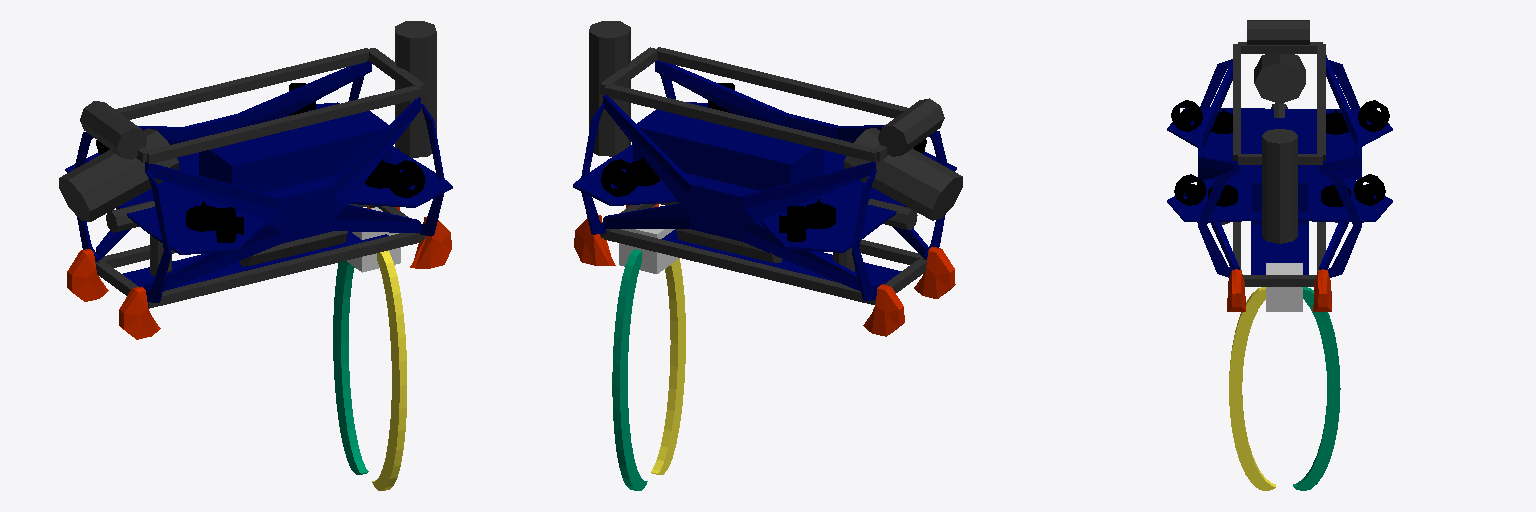
--- Facts derived from the render (not from the file) ---
The picture shows the robot from 3 angles, left to right: view 1: azimuth 30°, elevation 25°; view 2: azimuth 150°, elevation 25°; view 3: azimuth 270°, elevation 25°; orthographic projection.
Model sub9 with 28 links and 27 joints (11 revolute, 16 fixed), rooted at localization_center, posed all joints at 0.
Visible links, largest first — view 1: base_link, gripper_rightArm_link, gripper_leftArm_link, gripper_link; view 2: base_link, gripper_leftArm_link, gripper_rightArm_link, gripper_link; view 3: base_link, gripper_rightArm_link, gripper_leftArm_link, gripper_link.
Boxes of the visible links, x1=… form: base_link: x1=59, y1=21, x2=452, y2=339; gripper_rightArm_link: x1=372, y1=251, x2=406, y2=490; gripper_leftArm_link: x1=333, y1=261, x2=368, y2=474; gripper_link: x1=347, y1=207, x2=400, y2=272; base_link: x1=573, y1=21, x2=962, y2=336; gripper_leftArm_link: x1=612, y1=249, x2=647, y2=490; gripper_rightArm_link: x1=651, y1=258, x2=685, y2=474; gripper_link: x1=619, y1=229, x2=678, y2=273; base_link: x1=1167, y1=20, x2=1392, y2=311; gripper_rightArm_link: x1=1229, y1=287, x2=1275, y2=490; gripper_leftArm_link: x1=1293, y1=287, x2=1340, y2=490; gripper_link: x1=1266, y1=263, x2=1302, y2=311.
Bounding box of the posed robot: 0.9503 × 0.6072 × 1.1 m (x, y, z).
Meshes: 3 distinct files referenced, 4 mesh visuals loaded (3 Collada DAE).

robot.urdf — sub9:
<?xml version="1.0" ?>
<!-- =================================================================================== -->
<!-- |    This document was autogenerated by xacro from [local-path]/mil2/install/subjugator_description/share/subjugator_description/urdf/sub9_sim.urdf.xacro | -->
<!-- |    EDITING THIS FILE BY HAND IS NOT RECOMMENDED                                 | -->
<!-- =================================================================================== -->
<robot name="sub9" xmlns:experimental="http://sdformat.org/schemas/experimental" xmlns:gz="http://gazebosim.org/schema">
  <!-- Base Link of the Sub -->
  <link name="base_link">
    <!-- Sub's Pose -->
    <origin rpy="0 0 0" xyz="0 0 0"/>
    <!-- Inertial Properties -->
    <inertial>
      <origin rpy="0 0 0" xyz="0.352 0 0"/>
      <!-- Need to be properly calculated at some point -->
      <mass value="20.5"/>
      <inertia ixx="2.4" ixy="0" ixz="0" iyy="2.4" iyz="0.0" izz="3.0"/>
    </inertial>
    <!-- Visual Data-->
    <visual name="visual">
      <origin rpy="0 0 0" xyz="0 0 0"/>
      <geometry>
        <mesh filename="package://subjugator_description/urdf/meshes/Sub9.dae"/>
      </geometry>
    </visual>
    <!-- Collision Data -->
    <collision name="buoyancy_collision">
      <!-- This collision is for calculating the buoyant forces-->
      <origin rpy="0 0 0" xyz="0.354 0 0"/>
      <geometry>
        <sphere radius="0.1695"/>
      </geometry>
    </collision>
    <!-- The following are shell collisions. They dont contrubute to buoyancy-->
    <!-- and are for collisions -->
    <collision name="Front_Shell">
      <origin rpy="0 0 0" xyz="0.708 0 0"/>
      <geometry>
        <box size="0.001 0.345 0.345"/>
      </geometry>
    </collision>
    <collision name="Back_Shell">
      <origin rpy="0 0 0" xyz="0 0 0"/>
      <geometry>
        <box size="0.001 0.345 0.345"/>
      </geometry>
    </collision>
    <collision name="Left_Shell">
      <origin rpy="0 0 0" xyz="0.345 0.177 0"/>
      <geometry>
        <box size="0.708 0.001 0.345"/>
      </geometry>
    </collision>
    <collision name="Right_Shell">
      <origin rpy="0 0 0" xyz="0.345 -0.177 0"/>
      <geometry>
        <box size="0.708 0.001 0.345"/>
      </geometry>
    </collision>
    <collision name="Top_Shell">
      <origin rpy="0 0 0" xyz="0.345 0 0.177"/>
      <geometry>
        <box size="0.708 0.345 0.001"/>
      </geometry>
    </collision>
    <collision name="Front_Shell">
      <origin rpy="0 0 0" xyz="0.345 0 -0.177"/>
      <geometry>
        <box size="0.708 0.345 0.001"/>
      </geometry>
    </collision>
  </link>
  <gazebo>
    <plugin filename="gz-sim-hydrodynamics-system" name="gz::sim::systems::Hydrodynamics">
      <link_name>localization_center</link_name>
      <xU>-30</xU>
      <xUabsU>-15</xUabsU>
      <yV>-40</yV>
      <yVabsV>-25</yVabsV>
      <zW>-50</zW>
      <zWabsW>-25</zWabsW>
      <kP>-30</kP>
      <kPabsP>-8</kPabsP>
      <mQ>-35</mQ>
      <mQabsQ>-10</mQabsQ>
      <nR>-40</nR>
      <nRabsR>-20</nRabsR>
    </plugin>
    <plugin filename="ThrusterBridge" name="thrusterBridge::ThrusterBridge"/>
    <plugin filename="MarbleDropper" name="marble_dropper::MarbleDropper"/>
    <plugin filename="GripperControl" name="gripper_control::GripperControl">
      <left_joint_name>gripper_leftArm_joint</left_joint_name>
      <right_joint_name>gripper_rightArm_joint</right_joint_name>
    </plugin>
  </gazebo>
  <link name="localization_center">
    <inertial>
      <mass value="0.001"/>
      <origin rpy="0 0 0" xyz="0 0 0"/>
      <inertia ixx="1e-6" ixy="0" ixz="0" iyy="1e-6" iyz="0" izz="1e-6"/>
    </inertial>
  </link>
  <joint name="base_to_localization" type="fixed">
    <parent link="localization_center"/>
    <child link="base_link"/>
    <origin rpy="0 0 0" xyz="0 0 0"/>
  </joint>
  <!-- Camera Link -->
  <link name="front_cam_link">
    <origin rpy="0 0 0" xyz="0 0 0"/>
    <inertial>
      <origin rpy="0 0 0" xyz="0 0 0"/>
      <mass value="0.1"/>
      <inertia ixx="0.001" ixy="0" ixz="0" iyy="0.001" iyz="0" izz="0.001"/>
    </inertial>
  </link>
  <!-- Camera Joint -->
  <joint name="front_cam_joint" type="fixed">
    <origin rpy="0 0 0" xyz="0.78 -0.014274 -0.050"/>
    <parent link="base_link"/>
    <child link="front_cam_link"/>
  </joint>
  <!-- This ensures that the fixed link is not simplified away -->
  <gazebo reference="front_cam_joint">
    <disableFixedJointLumping>true</disableFixedJointLumping>
    <preserveFixedJoint>true</preserveFixedJoint>
  </gazebo>
  <gazebo reference="front_cam_link">
    <sensor name="front_cam_camera" type="rgbd_camera">
      <update_rate>30</update_rate>
      <visualize>true</visualize>
      <always_on>1</always_on>
      <topic>front_cam</topic>
      <camera>
        <horizontal_fov>1.919862177</horizontal_fov>
        <image>
          <width>960</width>
          <height>600</height>
        </image>
        <clip>
          <near>0.1</near>
          <far>50.0</far>
        </clip>
      </camera>
    </sensor>
  </gazebo>
  <!-- Camera Link -->
  <link name="down_cam_link">
    <origin rpy="0 0 0" xyz="0 0 0"/>
    <inertial>
      <origin rpy="0 0 0" xyz="0 0 0"/>
      <mass value="0.1"/>
      <inertia ixx="0.001" ixy="0" ixz="0" iyy="0.001" iyz="0" izz="0.001"/>
    </inertial>
  </link>
  <!-- Camera Joint -->
  <joint name="down_cam_joint" type="fixed">
    <origin rpy="0 1.57 0" xyz="0.45222 0.027913 -0.22"/>
    <parent link="base_link"/>
    <child link="down_cam_link"/>
  </joint>
  <!-- This ensures that the fixed link is not simplified away -->
  <gazebo reference="down_cam_joint">
    <disableFixedJointLumping>true</disableFixedJointLumping>
    <preserveFixedJoint>true</preserveFixedJoint>
  </gazebo>
  <gazebo reference="down_cam_link">
    <sensor name="down_cam_camera" type="rgbd_camera">
      <update_rate>30</update_rate>
      <visualize>true</visualize>
      <always_on>1</always_on>
      <topic>down_cam</topic>
      <camera>
        <horizontal_fov>1.919862177</horizontal_fov>
        <image>
          <width>960</width>
          <height>600</height>
        </image>
        <clip>
          <near>0.1</near>
          <far>50.0</far>
        </clip>
      </camera>
    </sensor>
  </gazebo>
  <!-- DVL Link -->
  <link name="dvl_sensor_link">
    <origin rpy="0 0 0" xyz="0 0 0"/>
    <inertial>
      <origin rpy="0 0 0" xyz="0 0 0"/>
      <mass value="0.1"/>
      <inertia ixx="0.001" ixy="0" ixz="0" iyy="0.001" iyz="0" izz="0.001"/>
    </inertial>
  </link>
  <!-- DVL Joint -->
  <joint name="dvl_sensor_joint" type="fixed">
    <origin rpy="0.0 0.0 0.0" xyz="0.3937 0 -0.2413"/>
    <parent link="base_link"/>
    <child link="dvl_sensor_link"/>
  </joint>
  <!-- This ensures that the fixed link is not simplified away -->
  <gazebo reference="dvl_sensor_joint">
    <disableFixedJointLumping>true</disableFixedJointLumping>
    <preserveFixedJoint>true</preserveFixedJoint>
  </gazebo>
  <!-- Sensor/Plugin Info-->
  <gazebo reference="dvl_sensor_link">
    <sensor gz:type="dvl" name="A50_Waterlinked" type="custom">
      <pose>0 0 0 0 0 0</pose>
      <always_on>1</always_on>
      <update_rate>8</update_rate>
      <topic>/dvl/odom</topic>
      <gz:dvl>
        <type>phased_array</type>
        <arrangement degrees="true">
          <beam id="1">
            <aperture>3</aperture>
            <rotation>-135</rotation>
            <tilt>25</tilt>
          </beam>
          <beam>
            <aperture>3</aperture>
            <rotation>135</rotation>
            <tilt>25</tilt>
          </beam>
          <beam>
            <aperture>3</aperture>
            <rotation>45</rotation>
            <tilt>25</tilt>
          </beam>
          <beam>
            <aperture>3</aperture>
            <rotation>-45</rotation>
            <tilt>25</tilt>
          </beam>
        </arrangement>
        <tracking>
          <water_mass_mode>
            <when>best</when>
            <water_velocity>
              <x>0.</x>
              <y>0.</y>
              <z>0.</z>
            </water_velocity>
            <boundaries>
              <near>10.</near>
              <far>100.</far>
            </boundaries>
            <bins>10</bins>
            <noise type="gaussian">
              <stddev>0.0</stddev>
            </noise>
            <visualize>true</visualize>
          </water_mass_mode>
          <bottom_mode>
            <when>best</when>
            <noise type="gaussian">
              <stddev>0.0</stddev>
            </noise>
            <visualize>true</visualize>
          </bottom_mode>
        </tracking>
        <maximum_range>200.</maximum_range>
        <minimum_range>0.3</minimum_range>
        <!-- ENU to FSD -->
        <reference_frame>0 0 0 0 0 0</reference_frame>
      </gz:dvl>
    </sensor>
  </gazebo>
  <gazebo>
    <plugin filename="DVLBridge" name="dave_ros_gz_plugins::DVLBridge">
      <!-- Grabbed in DVL Bridge script -->
      <topic>/dvl/odom</topic>
    </plugin>
  </gazebo>
  <!-- Imu link -->
  <link name="imu_link">
    <origin rpy="0 0 0" xyz="0 0 0"/>
    <inertial>
      <origin rpy="0 0 0" xyz="0 0 0"/>
      <mass value="0.1"/>
      <inertia ixx="0.001" ixy="0" ixz="0" iyy="0.001" iyz="0" izz="0.001"/>
    </inertial>
  </link>
  <!-- IMU joint -->
  <joint name="imu_joint" type="fixed">
    <origin rpy="0 0 0" xyz="0.65164 -0.00588 0.052145"/>
    <parent link="base_link"/>
    <child link="imu_link"/>
  </joint>
  <!-- This ensures that the fixed link is not simplified away -->
  <gazebo reference="imu_joint">
    <disableFixedJointLumping>true</disableFixedJointLumping>
    <preserveFixedJoint>true</preserveFixedJoint>
  </gazebo>
  <!-- Sensor/Plugin Info-->
  <gazebo reference="imu_link">
    <sensor name="imu_link" type="imu">
      <always_on>true</always_on>
      <update_rate>210</update_rate>
      <topic>/imu/data_raw</topic>
      <gz_frame_id>imu_link</gz_frame_id>
      <imu>
        <linear_acceleration>
          <x>
            <noise type="gaussian">
              <stddev>0.0</stddev>
            </noise>
          </x>
          <y>
            <noise type="gaussian">
              <stddev>0.0</stddev>
            </noise>
          </y>
          <z>
            <noise type="gaussian">
              <stddev>0.0</stddev>
            </noise>
          </z>
        </linear_acceleration>
        <angular_velocity>
          <x>
            <noise type="gaussian">
              <stddev>0.0</stddev>
            </noise>
          </x>
          <y>
            <noise type="gaussian">
              <stddev>0.0</stddev>
            </noise>
          </y>
          <z>
            <noise type="gaussian">
              <stddev>0.0</stddev>
            </noise>
          </z>
        </angular_velocity>
      </imu>
      <plugin filename="gz-sim-imu-system" name="gz::sim::systems::Imu"/>
    </sensor>
    <sensor name="VectorNav_MAG" type="magnetometer">
      <always_on>true</always_on>
      <update_rate>210</update_rate>
      <topic>/imu/mag</topic>
      <plugin filename="gz-sim-magnetometer-system" name="gz::sim::systems::Magnetometer"/>
    </sensor>
  </gazebo>
  <link name="depth_sensor_link">
    <origin rpy="0 0 0" xyz="0 0 0"/>
    <inertial>
      <origin rpy="0 0 0" xyz="0 0 0"/>
      <mass value="0.1"/>
      <inertia ixx="0.001" ixy="0" ixz="0" iyy="0.001" iyz="0" izz="0.001"/>
    </inertial>
  </link>
  <!-- DepthSensor Joint -->
  <joint name="depth_sensor_joint" type="fixed">
    <parent link="base_link"/>
    <child link="depth_sensor_link"/>
    <origin rpy="0 0 0" xyz="0.3 0 0"/>
  </joint>
  <!-- This ensures that the fixed link is not simplified away -->
  <gazebo reference="depth_sensor_joint">
    <disableFixedJointLumping>true</disableFixedJointLumping>
    <preserveFixedJoint>true</preserveFixedJoint>
  </gazebo>
  <gazebo>
    <plugin filename="DepthSensor" name="depth_sensor::DepthSensor">
      <!-- SDF parameters -->
      <frame_id>depth_sensor_link</frame_id>
      <offset>0 0 0 0 0 0</offset>
      <topic>/depth</topic>
      <update_rate>5</update_rate>
      <noise_mean>0.0</noise_mean>
      <noise_stddev>0</noise_stddev>
    </plugin>
  </gazebo>
  <!-- Hydrophone Link -->
  <link name="hydrophone_sensor_link">
    <origin rpy="0 0 0" xyz="0 0 0"/>
    <inertial>
      <origin rpy="0 0 0" xyz="0 0 0"/>
      <mass value="0.1"/>
      <inertia ixx="0.001" ixy="0" ixz="0" iyy="0.001" iyz="0" izz="0.001"/>
    </inertial>
  </link>
  <!-- Hydrophone Joint -->
  <joint name="hydrophone_sensor_joint" type="fixed">
    <origin rpy="0 1.57 .7853981634" xyz="0.10 -0.034274 -0.22"/>
    <parent link="base_link"/>
    <child link="hydrophone_sensor_link"/>
  </joint>
  <!-- This ensures that the fixed link is not simplified away -->
  <gazebo reference="hydrophone_sensor_joint">
    <disableFixedJointLumping>true</disableFixedJointLumping>
    <preserveFixedJoint>true</preserveFixedJoint>
  </gazebo>
  <!-- <gazebo>
      <plugin
        filename="Hydrophone"
        name="hydrophone::Hydrophone">
        <topic>${name}</topic>
      </plugin>
    </gazebo> -->
  <gazebo>
    <preserveFixedJoint>true</preserveFixedJoint>
  </gazebo>
  <!-- The plate link -->
  <link name="asym_drag">
    <inertial>
      <mass value="0.001"/>
      <inertia ixx="0.001" ixy="0" ixz="0" iyy="0.001" iyz="0" izz="0.001"/>
    </inertial>
  </link>
  <!-- Joint (revolute with zero limits avoids fixed-joint reduction reliably) -->
  <joint name="asym_drag_joint" type="revolute">
    <parent link="base_link"/>
    <child link="asym_drag"/>
    <origin xyz="0.8 0 0"/>
    <axis xyz="0 0 1"/>
    <limit effort="0" lower="0" upper="0" velocity="0"/>
  </joint>
  <!-- Hydrodynamics plugin attached to the plate -->
  <gazebo>
    <plugin filename="gz-sim-hydrodynamics-system" name="gz::sim::systems::Hydrodynamics">
      <link_name>asym_drag</link_name>
      <yV>0</yV>
      <yVabsV>0</yVabsV>
      <xU>0</xU>
      <xUabsU>0</xUabsU>
      <zW>0</zW>
      <zWabsW>0</zWabsW>
      <kP>0</kP>
      <kPabsP>0</kPabsP>
      <mQ>0</mQ>
      <mQabsQ>0</mQabsQ>
      <nR>0</nR>
      <nRabsR>0</nRabsR>
    </plugin>
  </gazebo>
  <!-- Gripper Base Link -->
  <link name="gripper_link">
    <origin rpy="0 0 0" xyz="0 0 0"/>
    <inertial>
      <origin rpy="0 0 0" xyz="0 0 0"/>
      <mass value="1.0"/>
      <inertia ixx="0.01" ixy="0" ixz="0" iyy="0.01" iyz="0" izz="0.01"/>
    </inertial>
    <!-- Visual for base -->
    <visual name="gripper_base_visual">
      <geometry>
        <mesh filename="package://subjugator_description/models/gripper_2025/gripper_base.dae"/>
      </geometry>
    </visual>
    <!-- Collision for base -->
    <collision>
      <geometry>
        <box size="0.1 0.1 0.1"/>
      </geometry>
    </collision>
  </link>
  <!-- Left Arm Link  -->
  <link name="gripper_leftArm_link">
    <inertial>
      <origin rpy="0 0 0" xyz="0 0.025 0"/>
      <mass value="0.1"/>
      <inertia ixx="0.001" ixy="0" ixz="0" iyy="0.001" iyz="0" izz="0.001"/>
    </inertial>
    <!-- Left Arm Visual Link -->
    <visual name="gripper_leftArm_visual">
      <origin rpy="1.57 0 -1.57" xyz="0 0.025 -0.3"/>
      <geometry>
        <mesh filename="package://subjugator_description/models/gripper_2025/gripper_arm.dae"/>
      </geometry>
    </visual>
    <!-- Left arm collision removed to avoid crossing/overlap issues during motion -->
  </link>
  <!-- Left Arm Joint -->
  <joint name="gripper_leftArm_joint" type="revolute">
    <origin rpy="0 0 0" xyz="0 0.025 0"/>
    <parent link="gripper_link"/>
    <child link="gripper_leftArm_link"/>
    <axis xyz="1 0 0"/>
    <limit effort="1.0" lower="0.0" upper="0.5" velocity="1.0"/>
  </joint>
  <!-- Right Arm Link -->
  <link name="gripper_rightArm_link">
    <inertial>
      <origin rpy="0 0 0" xyz="0 -0.025 0"/>
      <mass value="0.1"/>
      <inertia ixx="0.001" ixy="0" ixz="0" iyy="0.001" iyz="0" izz="0.001"/>
    </inertial>
    <!-- Right Arm Visual Link -->
    <visual name="gripper_rightArm_visual">
      <origin rpy="1.57 0 1.57" xyz="0 -0.025 -0.3"/>
      <geometry>
        <mesh filename="package://subjugator_description/models/gripper_2025/gripper_arm.dae"/>
      </geometry>
    </visual>
    <!-- Right arm collision removed to avoid crossing/overlap issues during motion -->
  </link>
  <!-- Right Arm Joint -->
  <joint name="gripper_rightArm_joint" type="revolute">
    <origin rpy="0 0 0" xyz="0 -0.025 0"/>
    <parent link="gripper_link"/>
    <child link="gripper_rightArm_link"/>
    <axis xyz="-1 0 0"/>
    <limit effort="1.0" lower="0.0" upper="0.5" velocity="1.0"/>
  </joint>
  <!-- Fixed Joint to Parent -->
  <joint name="gripper_joint" type="fixed">
    <origin rpy="0 0 0" xyz="0.375 0 -0.225"/>
    <parent link="base_link"/>
    <child link="gripper_link"/>
  </joint>
  <gazebo reference="gripper_joint">
    <disableFixedJointLumping>true</disableFixedJointLumping>
    <preserveFixedJoint>true</preserveFixedJoint>
  </gazebo>
  <!-- Link for base of thruster (this is for TF) -->
  <link name="FLV_link">
    <origin rpy="0 0 0" xyz="0 0 0"/>
    <inertial>
      <origin rpy="0 0 0" xyz="0 0 0"/>
      <mass value="0.01"/>
      <inertia ixx="0.001" ixy="0" ixz="0" iyy="0.001" iyz="0" izz="0.001"/>
    </inertial>
  </link>
  <!-- Thruster base Joint -->
  <joint name="FLV_joint" type="fixed">
    <origin rpy="0 -1.5708 0" xyz="0.5715 0.14922 -0.028575"/>
    <parent link="base_link"/>
    <child link="FLV_link"/>
  </joint>
  <!-- This ensures that the fixed link is not simplified away -->
  <gazebo reference="FLV_joint">
    <disableFixedJointLumping>true</disableFixedJointLumping>
    <preserveFixedJoint>true</preserveFixedJoint>
  </gazebo>
  <!-- Thruster Direction link (this is for the plugin) -->
  <!-- The plugin does not work with a fixed link -->
  <link name="FLV_dir_link">
    <origin rpy="0 0 0" xyz="0 0 0"/>
    <inertial>
      <origin rpy="0 0 0" xyz="0 0 0"/>
      <mass value="0.01"/>
      <inertia ixx="0.001" ixy="0" ixz="0" iyy="0.001" iyz="0" izz="0.001"/>
    </inertial>
  </link>
  <!-- Thruster Direction joint -->
  <joint name="FLV_dir_joint" type="revolute">
    <origin rpy="0 0 0" xyz="0 0 0"/>
    <parent link="FLV_link"/>
    <child link="FLV_dir_link"/>
    <limit effort="1000" lower="0.0" upper="0.548" velocity="0.5"/>
  </joint>
  <!-- Sensor/Plugin Info-->
  <!-- For the thruster plugin this gazebo tag needs to be global-->
  <!-- Don't give it a reference like the other plugins-->
  <gazebo>
    <plugin filename="gz-sim-thruster-system" name="gz::sim::systems::Thruster">
      <namespace>FLV</namespace>
      <use_angvel_cmd>0</use_angvel_cmd>
      <joint_name>FLV_dir_joint</joint_name>
      <thrust_coefficient>0.01407</thrust_coefficient>
      <fluid_density>1000</fluid_density>
      <propeller_diameter>0.2</propeller_diameter>
    </plugin>
  </gazebo>
  <!-- Link for base of thruster (this is for TF) -->
  <link name="FRV_link">
    <origin rpy="0 0 0" xyz="0 0 0"/>
    <inertial>
      <origin rpy="0 0 0" xyz="0 0 0"/>
      <mass value="0.01"/>
      <inertia ixx="0.001" ixy="0" ixz="0" iyy="0.001" iyz="0" izz="0.001"/>
    </inertial>
  </link>
  <!-- Thruster base Joint -->
  <joint name="FRV_joint" type="fixed">
    <origin rpy="0 -1.5708 0" xyz="0.5715 -0.14922 -0.028575"/>
    <parent link="base_link"/>
    <child link="FRV_link"/>
  </joint>
  <!-- This ensures that the fixed link is not simplified away -->
  <gazebo reference="FRV_joint">
    <disableFixedJointLumping>true</disableFixedJointLumping>
    <preserveFixedJoint>true</preserveFixedJoint>
  </gazebo>
  <!-- Thruster Direction link (this is for the plugin) -->
  <!-- The plugin does not work with a fixed link -->
  <link name="FRV_dir_link">
    <origin rpy="0 0 0" xyz="0 0 0"/>
    <inertial>
      <origin rpy="0 0 0" xyz="0 0 0"/>
      <mass value="0.01"/>
      <inertia ixx="0.001" ixy="0" ixz="0" iyy="0.001" iyz="0" izz="0.001"/>
    </inertial>
  </link>
  <!-- Thruster Direction joint -->
  <joint name="FRV_dir_joint" type="revolute">
    <origin rpy="0 0 0" xyz="0 0 0"/>
    <parent link="FRV_link"/>
    <child link="FRV_dir_link"/>
    <limit effort="1000" lower="0.0" upper="0.548" velocity="0.5"/>
  </joint>
  <!-- Sensor/Plugin Info-->
  <!-- For the thruster plugin this gazebo tag needs to be global-->
  <!-- Don't give it a reference like the other plugins-->
  <gazebo>
    <plugin filename="gz-sim-thruster-system" name="gz::sim::systems::Thruster">
      <namespace>FRV</namespace>
      <use_angvel_cmd>0</use_angvel_cmd>
      <joint_name>FRV_dir_joint</joint_name>
      <thrust_coefficient>0.01407</thrust_coefficient>
      <fluid_density>1000</fluid_density>
      <propeller_diameter>0.2</propeller_diameter>
    </plugin>
  </gazebo>
  <!-- Link for base of thruster (this is for TF) -->
  <link name="BRV_link">
    <origin rpy="0 0 0" xyz="0 0 0"/>
    <inertial>
      <origin rpy="0 0 0" xyz="0 0 0"/>
      <mass value="0.01"/>
      <inertia ixx="0.001" ixy="0" ixz="0" iyy="0.001" iyz="0" izz="0.001"/>
    </inertial>
  </link>
  <!-- Thruster base Joint -->
  <joint name="BRV_joint" type="fixed">
    <origin rpy="0 -1.5708 0" xyz="0.1143 -0.14922 -0.028575"/>
    <parent link="base_link"/>
    <child link="BRV_link"/>
  </joint>
  <!-- This ensures that the fixed link is not simplified away -->
  <gazebo reference="BRV_joint">
    <disableFixedJointLumping>true</disableFixedJointLumping>
    <preserveFixedJoint>true</preserveFixedJoint>
  </gazebo>
  <!-- Thruster Direction link (this is for the plugin) -->
  <!-- The plugin does not work with a fixed link -->
  <link name="BRV_dir_link">
    <origin rpy="0 0 0" xyz="0 0 0"/>
    <inertial>
      <origin rpy="0 0 0" xyz="0 0 0"/>
      <mass value="0.01"/>
      <inertia ixx="0.001" ixy="0" ixz="0" iyy="0.001" iyz="0" izz="0.001"/>
    </inertial>
  </link>
  <!-- Thruster Direction joint -->
  <joint name="BRV_dir_joint" type="revolute">
    <origin rpy="0 0 0" xyz="0 0 0"/>
    <parent link="BRV_link"/>
    <child link="BRV_dir_link"/>
    <limit effort="1000" lower="0.0" upper="0.548" velocity="0.5"/>
  </joint>
  <!-- Sensor/Plugin Info-->
  <!-- For the thruster plugin this gazebo tag needs to be global-->
  <!-- Don't give it a reference like the other plugins-->
  <gazebo>
    <plugin filename="gz-sim-thruster-system" name="gz::sim::systems::Thruster">
      <namespace>BRV</namespace>
      <use_angvel_cmd>0</use_angvel_cmd>
      <joint_name>BRV_dir_joint</joint_name>
      <thrust_coefficient>0.01407</thrust_coefficient>
      <fluid_density>1000</fluid_density>
      <propeller_diameter>0.2</propeller_diameter>
    </plugin>
  </gazebo>
  <!-- Link for base of thruster (this is for TF) -->
  <link name="BLV_link">
    <origin rpy="0 0 0" xyz="0 0 0"/>
    <inertial>
      <origin rpy="0 0 0" xyz="0 0 0"/>
      <mass value="0.01"/>
      <inertia ixx="0.001" ixy="0" ixz="0" iyy="0.001" iyz="0" izz="0.001"/>
    </inertial>
  </link>
  <!-- Thruster base Joint -->
  <joint name="BLV_joint" type="fixed">
    <origin rpy="0 -1.5708 0" xyz="0.1143 0.14922 -0.028575"/>
    <parent link="base_link"/>
    <child link="BLV_link"/>
  </joint>
  <!-- This ensures that the fixed link is not simplified away -->
  <gazebo reference="BLV_joint">
    <disableFixedJointLumping>true</disableFixedJointLumping>
    <preserveFixedJoint>true</preserveFixedJoint>
  </gazebo>
  <!-- Thruster Direction link (this is for the plugin) -->
  <!-- The plugin does not work with a fixed link -->
  <link name="BLV_dir_link">
    <origin rpy="0 0 0" xyz="0 0 0"/>
    <inertial>
      <origin rpy="0 0 0" xyz="0 0 0"/>
      <mass value="0.01"/>
      <inertia ixx="0.001" ixy="0" ixz="0" iyy="0.001" iyz="0" izz="0.001"/>
    </inertial>
  </link>
  <!-- Thruster Direction joint -->
  <joint name="BLV_dir_joint" type="revolute">
    <origin rpy="0 0 0" xyz="0 0 0"/>
    <parent link="BLV_link"/>
    <child link="BLV_dir_link"/>
    <limit effort="1000" lower="0.0" upper="0.548" velocity="0.5"/>
  </joint>
  <!-- Sensor/Plugin Info-->
  <!-- For the thruster plugin this gazebo tag needs to be global-->
  <!-- Don't give it a reference like the other plugins-->
  <gazebo>
    <plugin filename="gz-sim-thruster-system" name="gz::sim::systems::Thruster">
      <namespace>BLV</namespace>
      <use_angvel_cmd>0</use_angvel_cmd>
      <joint_name>BLV_dir_joint</joint_name>
      <thrust_coefficient>0.01407</thrust_coefficient>
      <fluid_density>1000</fluid_density>
      <propeller_diameter>0.2</propeller_diameter>
    </plugin>
  </gazebo>
  <!-- Link for base of thruster (this is for TF) -->
  <link name="FLH_link">
    <origin rpy="0 0 0" xyz="0 0 0"/>
    <inertial>
      <origin rpy="0 0 0" xyz="0 0 0"/>
      <mass value="0.01"/>
      <inertia ixx="0.001" ixy="0" ixz="0" iyy="0.001" iyz="0" izz="0.001"/>
    </inertial>
  </link>
  <!-- Thruster base Joint -->
  <joint name="FLH_joint" type="fixed">
    <origin rpy="0 0 -0.523598776" xyz="0.58737 0.24765 0.053975"/>
    <parent link="base_link"/>
    <child link="FLH_link"/>
  </joint>
  <!-- This ensures that the fixed link is not simplified away -->
  <gazebo reference="FLH_joint">
    <disableFixedJointLumping>true</disableFixedJointLumping>
    <preserveFixedJoint>true</preserveFixedJoint>
  </gazebo>
  <!-- Thruster Direction link (this is for the plugin) -->
  <!-- The plugin does not work with a fixed link -->
  <link name="FLH_dir_link">
    <origin rpy="0 0 0" xyz="0 0 0"/>
    <inertial>
      <origin rpy="0 0 0" xyz="0 0 0"/>
      <mass value="0.01"/>
      <inertia ixx="0.001" ixy="0" ixz="0" iyy="0.001" iyz="0" izz="0.001"/>
    </inertial>
  </link>
  <!-- Thruster Direction joint -->
  <joint name="FLH_dir_joint" type="revolute">
    <origin rpy="0 0 0" xyz="0 0 0"/>
    <parent link="FLH_link"/>
    <child link="FLH_dir_link"/>
    <limit effort="1000" lower="0.0" upper="0.548" velocity="0.5"/>
  </joint>
  <!-- Sensor/Plugin Info-->
  <!-- For the thruster plugin this gazebo tag needs to be global-->
  <!-- Don't give it a reference like the other plugins-->
  <gazebo>
    <plugin filename="gz-sim-thruster-system" name="gz::sim::systems::Thruster">
      <namespace>FLH</namespace>
      <use_angvel_cmd>0</use_angvel_cmd>
      <joint_name>FLH_dir_joint</joint_name>
      <thrust_coefficient>0.01407</thrust_coefficient>
      <fluid_density>1000</fluid_density>
      <propeller_diameter>0.2</propeller_diameter>
    </plugin>
  </gazebo>
  <!-- Link for base of thruster (this is for TF) -->
  <link name="FRH_link">
    <origin rpy="0 0 0" xyz="0 0 0"/>
    <inertial>
      <origin rpy="0 0 0" xyz="0 0 0"/>
      <mass value="0.01"/>
      <inertia ixx="0.001" ixy="0" ixz="0" iyy="0.001" iyz="0" izz="0.001"/>
    </inertial>
  </link>
  <!-- Thruster base Joint -->
  <joint name="FRH_joint" type="fixed">
    <origin rpy="0 0 0.523598776" xyz="0.58737 -0.24765 0.053975"/>
    <parent link="base_link"/>
    <child link="FRH_link"/>
  </joint>
  <!-- This ensures that the fixed link is not simplified away -->
  <gazebo reference="FRH_joint">
    <disableFixedJointLumping>true</disableFixedJointLumping>
    <preserveFixedJoint>true</preserveFixedJoint>
  </gazebo>
  <!-- Thruster Direction link (this is for the plugin) -->
  <!-- The plugin does not work with a fixed link -->
  <link name="FRH_dir_link">
    <origin rpy="0 0 0" xyz="0 0 0"/>
    <inertial>
      <origin rpy="0 0 0" xyz="0 0 0"/>
      <mass value="0.01"/>
      <inertia ixx="0.001" ixy="0" ixz="0" iyy="0.001" iyz="0" izz="0.001"/>
    </inertial>
  </link>
  <!-- Thruster Direction joint -->
  <joint name="FRH_dir_joint" type="revolute">
    <origin rpy="0 0 0" xyz="0 0 0"/>
    <parent link="FRH_link"/>
    <child link="FRH_dir_link"/>
    <limit effort="1000" lower="0.0" upper="0.548" velocity="0.5"/>
  </joint>
  <!-- Sensor/Plugin Info-->
  <!-- For the thruster plugin this gazebo tag needs to be global-->
  <!-- Don't give it a reference like the other plugins-->
  <gazebo>
    <plugin filename="gz-sim-thruster-system" name="gz::sim::systems::Thruster">
      <namespace>FRH</namespace>
      <use_angvel_cmd>0</use_angvel_cmd>
      <joint_name>FRH_dir_joint</joint_name>
      <thrust_coefficient>0.01407</thrust_coefficient>
      <fluid_density>1000</fluid_density>
      <propeller_diameter>0.2</propeller_diameter>
    </plugin>
  </gazebo>
  <!-- Link for base of thruster (this is for TF) -->
  <link name="BRH_link">
    <origin rpy="0 0 0" xyz="0 0 0"/>
    <inertial>
      <origin rpy="0 0 0" xyz="0 0 0"/>
      <mass value="0.01"/>
      <inertia ixx="0.001" ixy="0" ixz="0" iyy="0.001" iyz="0" izz="0.001"/>
    </inertial>
  </link>
  <!-- Thruster base Joint -->
  <joint name="BRH_joint" type="fixed">
    <origin rpy="0 0 -0.523598776" xyz="0.127 -0.24765 0.053975"/>
    <parent link="base_link"/>
    <child link="BRH_link"/>
  </joint>
  <!-- This ensures that the fixed link is not simplified away -->
  <gazebo reference="BRH_joint">
    <disableFixedJointLumping>true</disableFixedJointLumping>
    <preserveFixedJoint>true</preserveFixedJoint>
  </gazebo>
  <!-- Thruster Direction link (this is for the plugin) -->
  <!-- The plugin does not work with a fixed link -->
  <link name="BRH_dir_link">
    <origin rpy="0 0 0" xyz="0 0 0"/>
    <inertial>
      <origin rpy="0 0 0" xyz="0 0 0"/>
      <mass value="0.01"/>
      <inertia ixx="0.001" ixy="0" ixz="0" iyy="0.001" iyz="0" izz="0.001"/>
    </inertial>
  </link>
  <!-- Thruster Direction joint -->
  <joint name="BRH_dir_joint" type="revolute">
    <origin rpy="0 0 0" xyz="0 0 0"/>
    <parent link="BRH_link"/>
    <child link="BRH_dir_link"/>
    <limit effort="1000" lower="0.0" upper="0.548" velocity="0.5"/>
  </joint>
  <!-- Sensor/Plugin Info-->
  <!-- For the thruster plugin this gazebo tag needs to be global-->
  <!-- Don't give it a reference like the other plugins-->
  <gazebo>
    <plugin filename="gz-sim-thruster-system" name="gz::sim::systems::Thruster">
      <namespace>BRH</namespace>
      <use_angvel_cmd>0</use_angvel_cmd>
      <joint_name>BRH_dir_joint</joint_name>
      <thrust_coefficient>0.01407</thrust_coefficient>
      <fluid_density>1000</fluid_density>
      <propeller_diameter>0.2</propeller_diameter>
    </plugin>
  </gazebo>
  <!-- Link for base of thruster (this is for TF) -->
  <link name="BLH_link">
    <origin rpy="0 0 0" xyz="0 0 0"/>
    <inertial>
      <origin rpy="0 0 0" xyz="0 0 0"/>
      <mass value="0.01"/>
      <inertia ixx="0.001" ixy="0" ixz="0" iyy="0.001" iyz="0" izz="0.001"/>
    </inertial>
  </link>
  <!-- Thruster base Joint -->
  <joint name="BLH_joint" type="fixed">
    <origin rpy="0 0 0.523598776" xyz="0.127 0.24765 0.053975"/>
    <parent link="base_link"/>
    <child link="BLH_link"/>
  </joint>
  <!-- This ensures that the fixed link is not simplified away -->
  <gazebo reference="BLH_joint">
    <disableFixedJointLumping>true</disableFixedJointLumping>
    <preserveFixedJoint>true</preserveFixedJoint>
  </gazebo>
  <!-- Thruster Direction link (this is for the plugin) -->
  <!-- The plugin does not work with a fixed link -->
  <link name="BLH_dir_link">
    <origin rpy="0 0 0" xyz="0 0 0"/>
    <inertial>
      <origin rpy="0 0 0" xyz="0 0 0"/>
      <mass value="0.01"/>
      <inertia ixx="0.001" ixy="0" ixz="0" iyy="0.001" iyz="0" izz="0.001"/>
    </inertial>
  </link>
  <!-- Thruster Direction joint -->
  <joint name="BLH_dir_joint" type="revolute">
    <origin rpy="0 0 0" xyz="0 0 0"/>
    <parent link="BLH_link"/>
    <child link="BLH_dir_link"/>
    <limit effort="1000" lower="0.0" upper="0.548" velocity="0.5"/>
  </joint>
  <!-- Sensor/Plugin Info-->
  <!-- For the thruster plugin this gazebo tag needs to be global-->
  <!-- Don't give it a reference like the other plugins-->
  <gazebo>
    <plugin filename="gz-sim-thruster-system" name="gz::sim::systems::Thruster">
      <namespace>BLH</namespace>
      <use_angvel_cmd>0</use_angvel_cmd>
      <joint_name>BLH_dir_joint</joint_name>
      <thrust_coefficient>0.01407</thrust_coefficient>
      <fluid_density>1000</fluid_density>
      <propeller_diameter>0.2</propeller_diameter>
    </plugin>
  </gazebo>
</robot>
